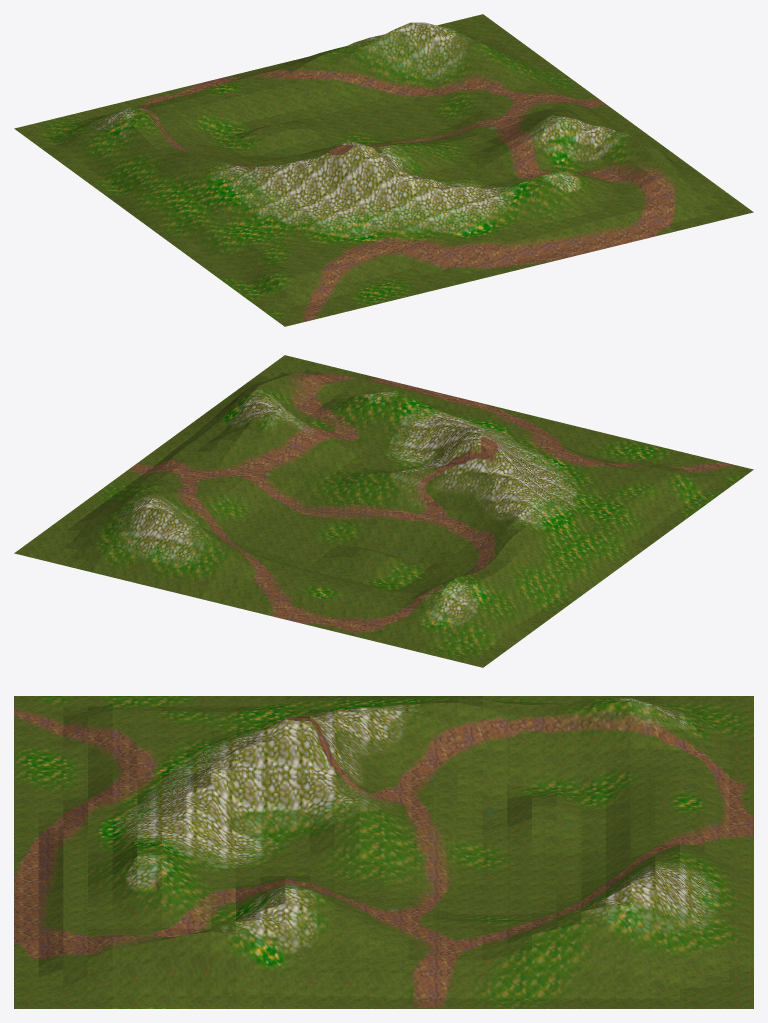
The model's file is terrain-512px.gltf.
3 renders of one model, top to bottom at view 1: azimuth 30°, elevation 25°; view 2: azimuth 150°, elevation 25°; view 3: azimuth 270°, elevation 25°, orthographic. The views are drawn at different scales.
Parts seen in each view (by area): view 1: Grid.000; view 2: Grid.000; view 3: Grid.000.
Part boxes in pixels (x1,y1,x2,y2): Grid.000: [14, 14, 753, 326]; Grid.000: [14, 355, 753, 667]; Grid.000: [14, 696, 753, 1008].
Size of what is drawn, in the model's own units: 11.76 by 1.6 by 11.76.
Materials: 1 (1 with a texture image).
